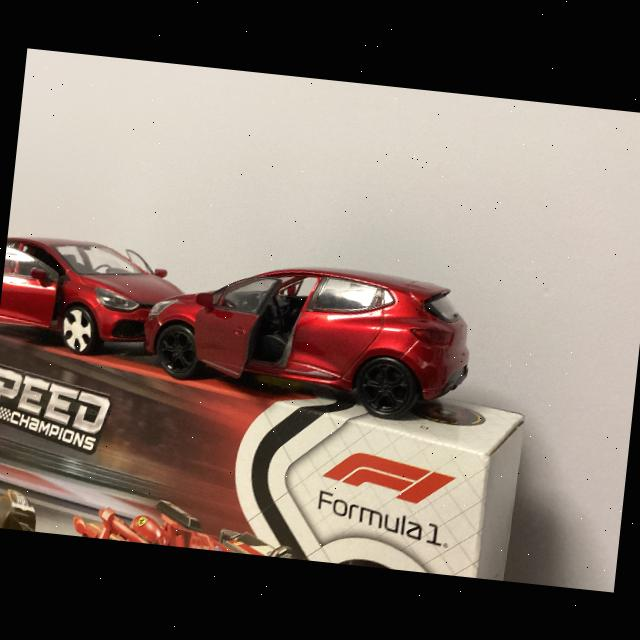Dogru_Jant: (360, 363, 410, 413), (158, 329, 195, 373)
Yanlis_Jant: (60, 306, 94, 353)
